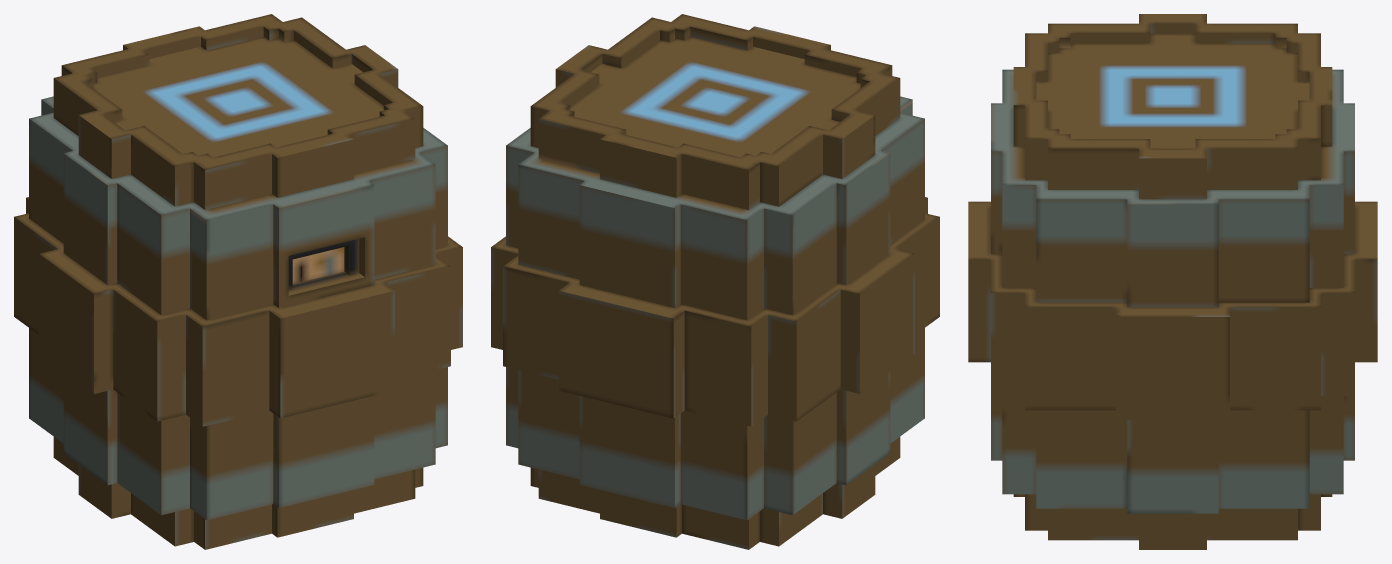
Rendered from Barrel_Hideable_Player.obj.
The picture shows the model from 3 angles, left to right: view 1: azimuth 30°, elevation 25°; view 2: azimuth 150°, elevation 25°; view 3: azimuth 270°, elevation 25°; orthographic projection. The views are drawn at different scales.
Parts seen in each view (by area): view 1: Barrel_Hideable_Player; view 2: Barrel_Hideable_Player; view 3: Barrel_Hideable_Player.
Boxes of the visible parts, <box> form: Barrel_Hideable_Player: <box>14,14,462,549</box>; Barrel_Hideable_Player: <box>491,14,939,549</box>; Barrel_Hideable_Player: <box>968,14,1377,549</box>.
Size of the model in its own units: 7.2 by 7.6 by 7.2.
Materials: 1 (1 with a texture image).
